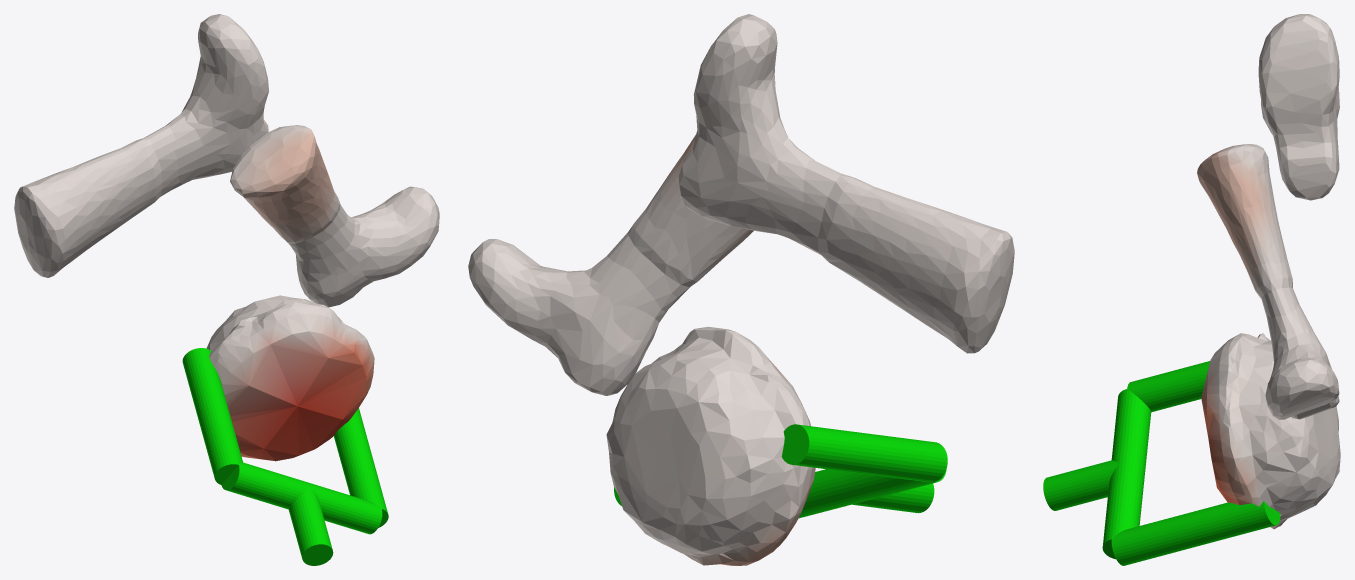
File: round_000_trial_002.obj
The picture shows the model from 3 angles, left to right: view 1: azimuth 30°, elevation 25°; view 2: azimuth 150°, elevation 25°; view 3: azimuth 270°, elevation 25°; orthographic projection. The views are drawn at different scales.
Visible parts, largest first — view 1: geometry_0, geometry_1; view 2: geometry_0, geometry_1; view 3: geometry_0, geometry_1.
Boxes of the visible parts, bbox=[...] form: geometry_0: bbox=[14, 14, 439, 461]; geometry_1: bbox=[182, 348, 388, 565]; geometry_0: bbox=[468, 14, 1014, 565]; geometry_1: bbox=[614, 424, 947, 518]; geometry_0: bbox=[1197, 14, 1340, 529]; geometry_1: bbox=[1043, 361, 1280, 565].
Size of the model in its own units: 0.15 by 0.1634 by 0.086.
